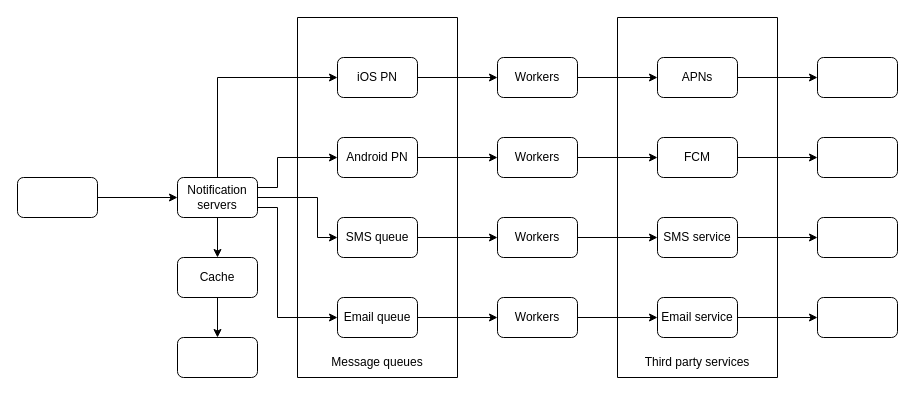
Image size: 915x395. Some labels were removed from this diagram. The centre of each missing label's shape, as x and y in pixels:
Android: the point at 857,157
DB: the point at 217,357
Email: the point at 857,317
iOS: the point at 857,77
Services: the point at 57,197
SMS: the point at 857,237
